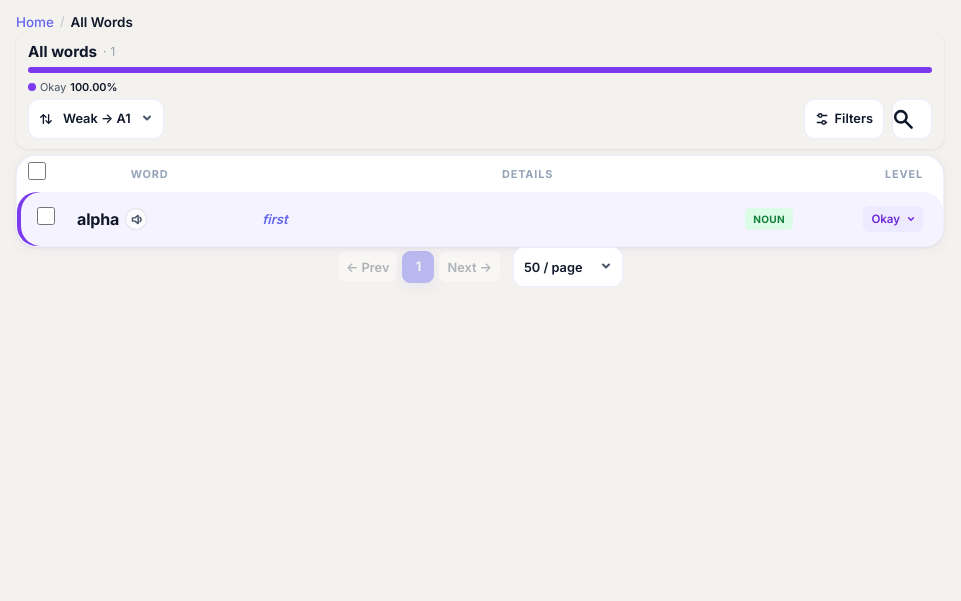
Scenario: keeps the latest search results when an older request finishes later
Expected: the link "alpha" is shown, [77,209,119,230]
Click the button named "Toggle search" at (912, 119), box [892,99,932,139]
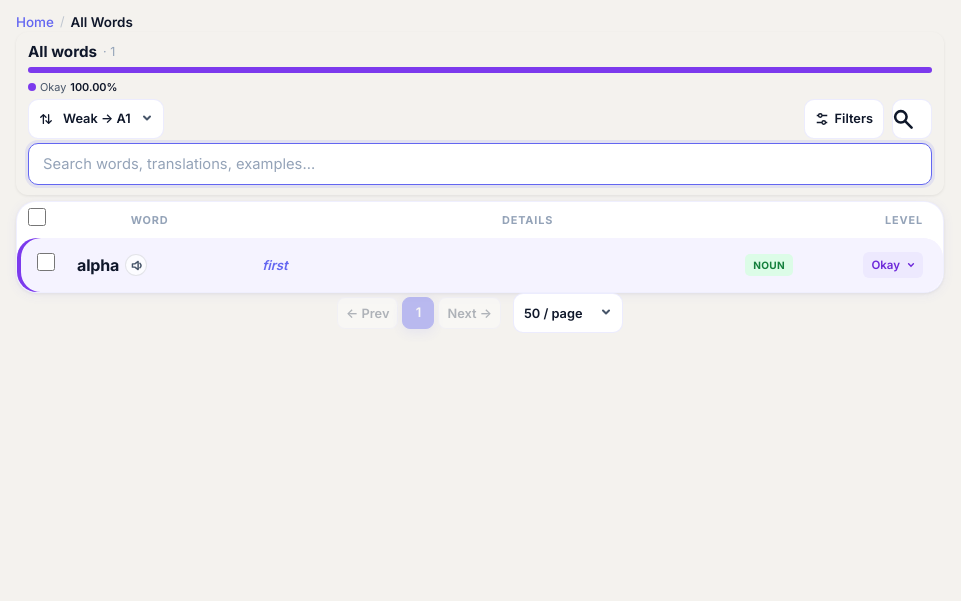
Type "alpha" into the search field labelled "Search words" at (480, 164), box [28,143,932,185]
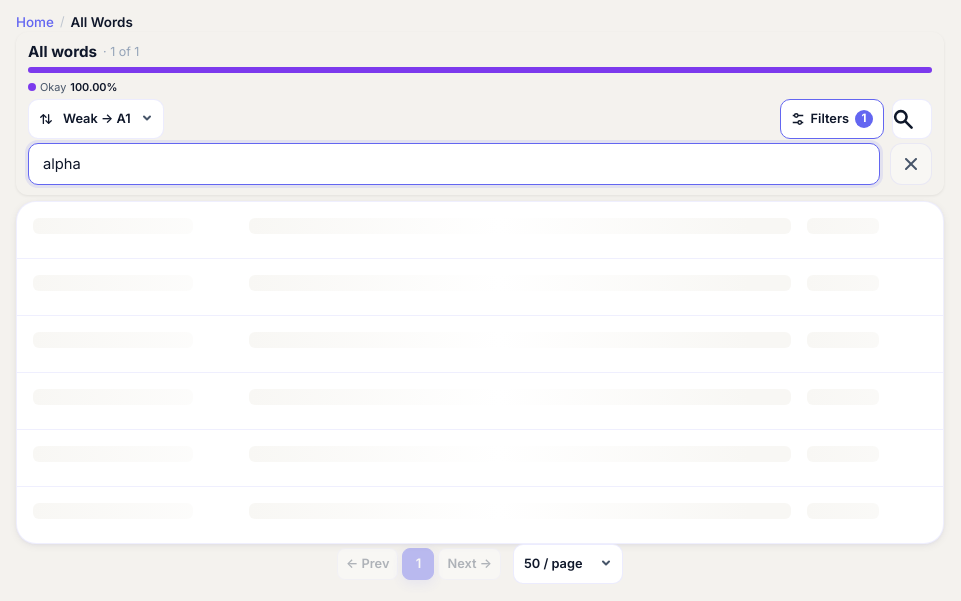
Replace the text in the search field named "Search words" with "bravo" at (454, 164), box [28,143,880,185]
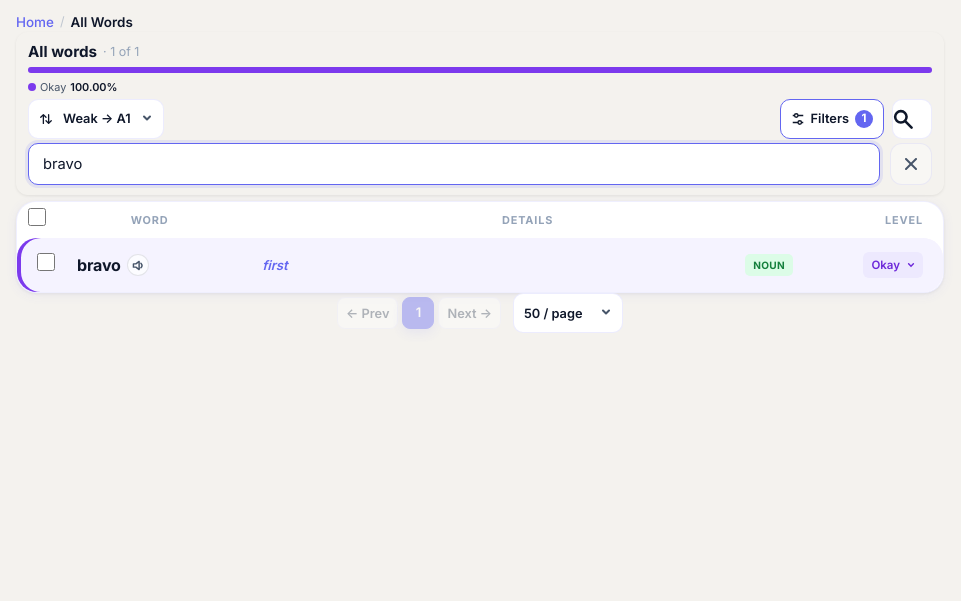
Expected: the link "alpha" is not shown
Expected: the link "bravo" is shown, [77,255,121,276]
